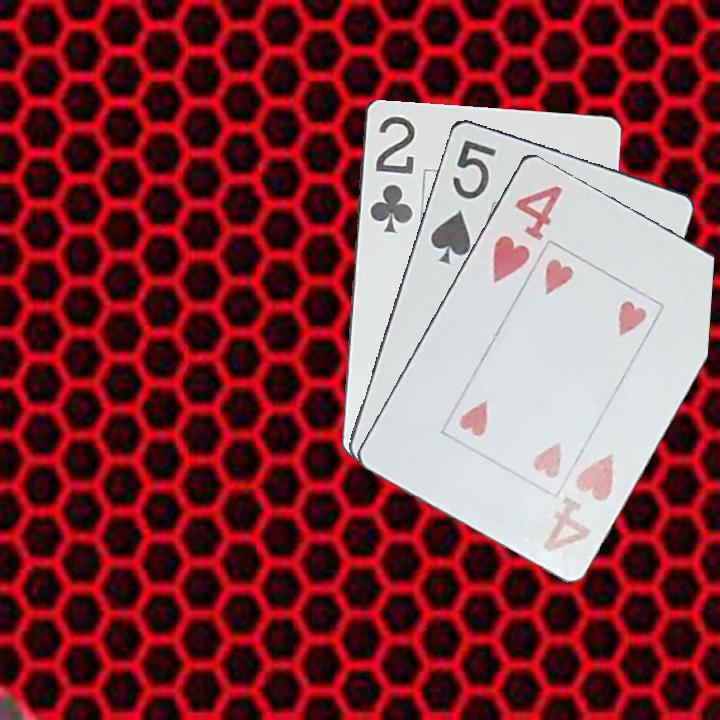2c: (366, 112, 418, 236)
4h: (485, 181, 566, 286), (538, 449, 617, 554)
5s: (426, 135, 500, 267)
